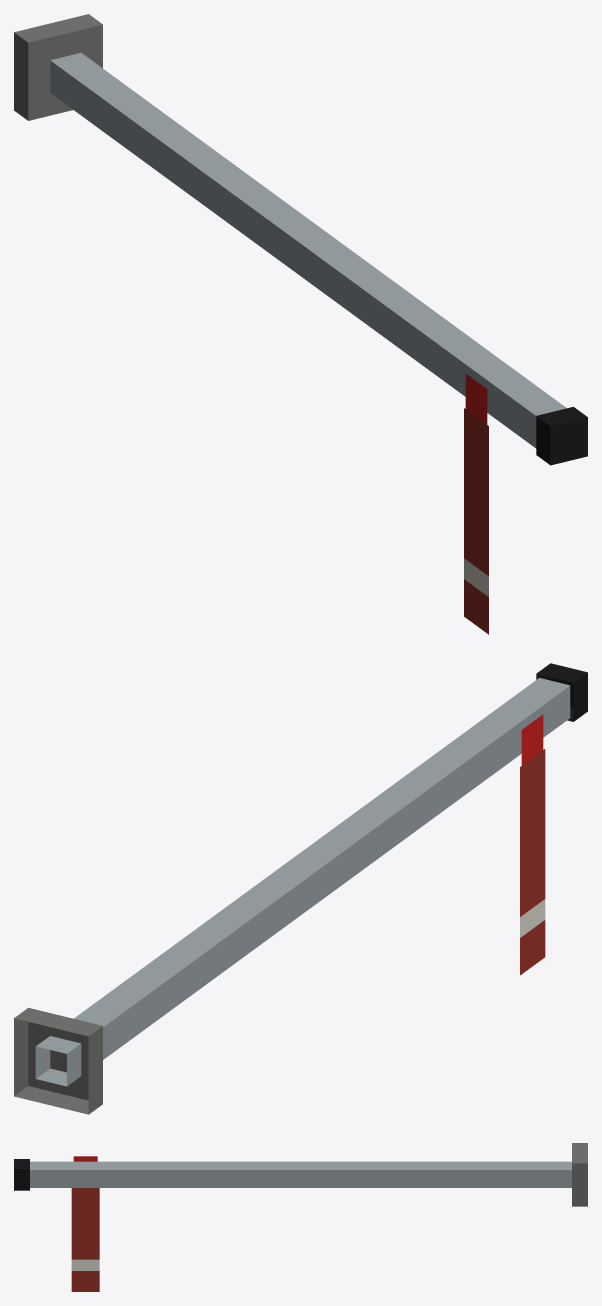
Rendered from red.glb.
The picture shows the model from 3 angles, top to bottom: view 1: azimuth 30°, elevation 25°; view 2: azimuth 150°, elevation 25°; view 3: azimuth 270°, elevation 25°; orthographic projection. The views are drawn at different scales.
Parts seen in each view (by area): view 1: signal_semaphore_block_red; view 2: signal_semaphore_block_red; view 3: signal_semaphore_block_red.
Part boxes in pixels (left/top/right/bottom): signal_semaphore_block_red: left=14, top=14, right=587, bottom=634; signal_semaphore_block_red: left=14, top=663, right=587, bottom=1114; signal_semaphore_block_red: left=14, top=1143, right=587, bottom=1291.
Size of the model in its own units: 1.2 by 4.05 by 14.4.
